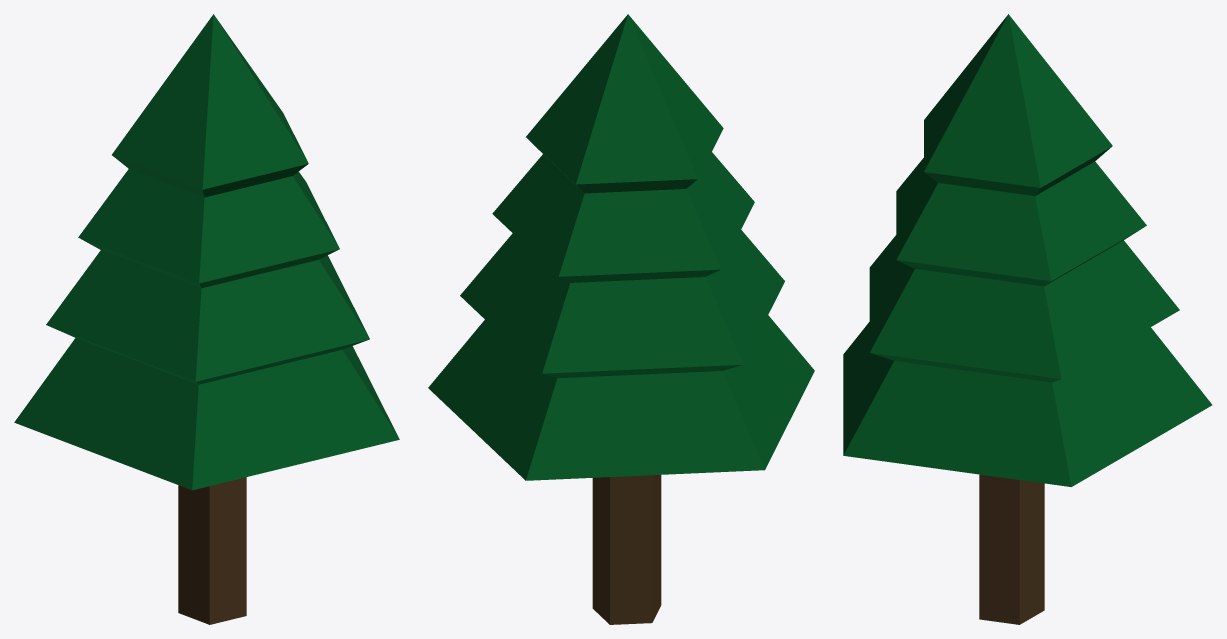
Rendered from Tree4.fbx.
3 renders of one model, left to right at view 1: azimuth 30°, elevation 25°; view 2: azimuth 150°, elevation 25°; view 3: azimuth 270°, elevation 25°, orthographic.
Visible parts, largest first — view 1: Cube; view 2: Cube; view 3: Cube.
Boxes of the visible parts, x1=… form: Cube: x1=14, y1=14, x2=399, y2=624; Cube: x1=428, y1=14, x2=814, y2=624; Cube: x1=843, y1=14, x2=1212, y2=624.
Size of the model in its own units: 117 by 198 by 111.
